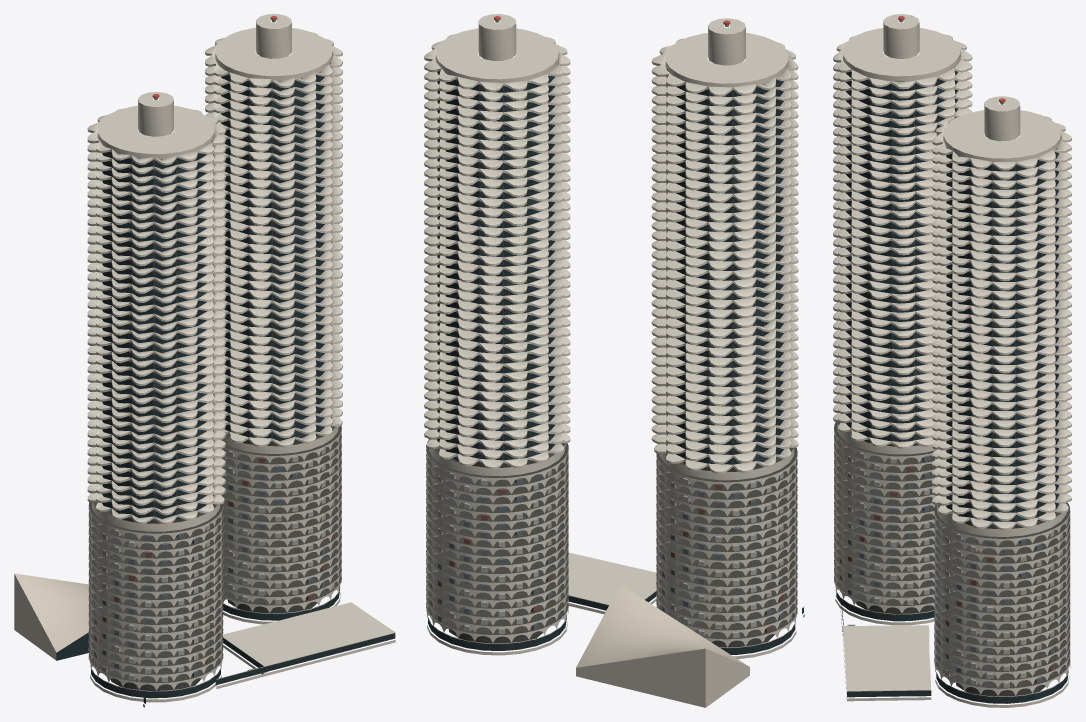
File: marina-city-near.glb
The picture shows the model from 3 angles, left to right: view 1: azimuth 30°, elevation 25°; view 2: azimuth 150°, elevation 25°; view 3: azimuth 270°, elevation 25°; orthographic projection. The views are drawn at different scales.
Parts seen in each view (by area): view 1: marina-city-0-concrete, marina-city-0-concreteDark, marina-city-0-glass, marina-city-0-glow, marina-city-0-carLight, marina-city-0-roof, marina-city-0-carDark; view 2: marina-city-0-concrete, marina-city-0-concreteDark, marina-city-0-glass, marina-city-0-roof, marina-city-0-glow, marina-city-0-carLight, marina-city-0-carDark, marina-city-0-carRed; view 3: marina-city-0-concrete, marina-city-0-concreteDark, marina-city-0-glass, marina-city-0-glow, marina-city-0-carLight, marina-city-0-carDark, marina-city-0-carRed.
Boxes of the visible parts, x1,y1,x2,y2 form: marina-city-0-concrete: (14, 14, 395, 707); marina-city-0-concreteDark: (88, 72, 341, 691); marina-city-0-glass: (56, 75, 395, 703); marina-city-0-glow: (102, 63, 331, 514); marina-city-0-carLight: (91, 439, 339, 682); marina-city-0-roof: (14, 573, 89, 652); marina-city-0-carDark: (91, 462, 339, 676); marina-city-0-concrete: (424, 14, 804, 707); marina-city-0-concreteDark: (426, 74, 797, 648); marina-city-0-glass: (428, 69, 803, 654); marina-city-0-roof: (576, 584, 748, 667); marina-city-0-glow: (437, 76, 783, 461); marina-city-0-carLight: (428, 459, 794, 638); marina-city-0-carDark: (428, 467, 794, 629); marina-city-0-carRed: (430, 481, 794, 632); marina-city-0-concrete: (833, 14, 1071, 707); marina-city-0-concreteDark: (834, 81, 1070, 697); marina-city-0-glass: (836, 71, 1068, 703); marina-city-0-glow: (845, 67, 1058, 521); marina-city-0-carLight: (837, 441, 1067, 687); marina-city-0-carDark: (837, 445, 1067, 683); marina-city-0-carRed: (840, 464, 1067, 670).
Size of the model in its own units: 93.59 by 179 by 66.89.
